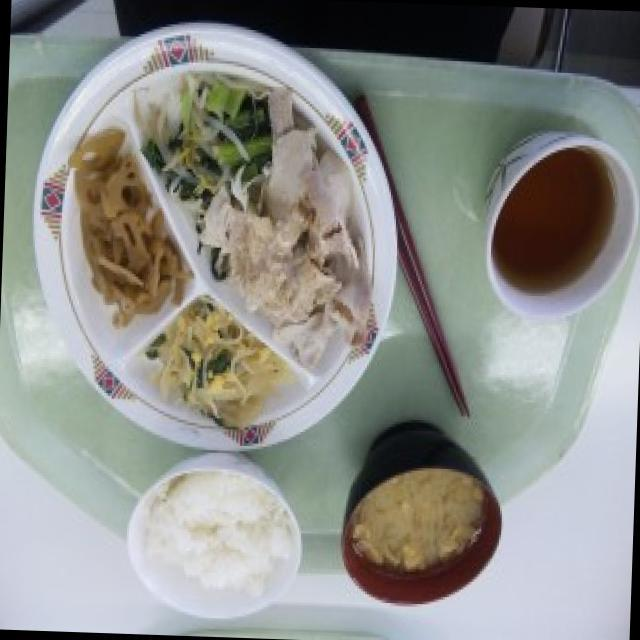Rice: (150, 478, 292, 601)
